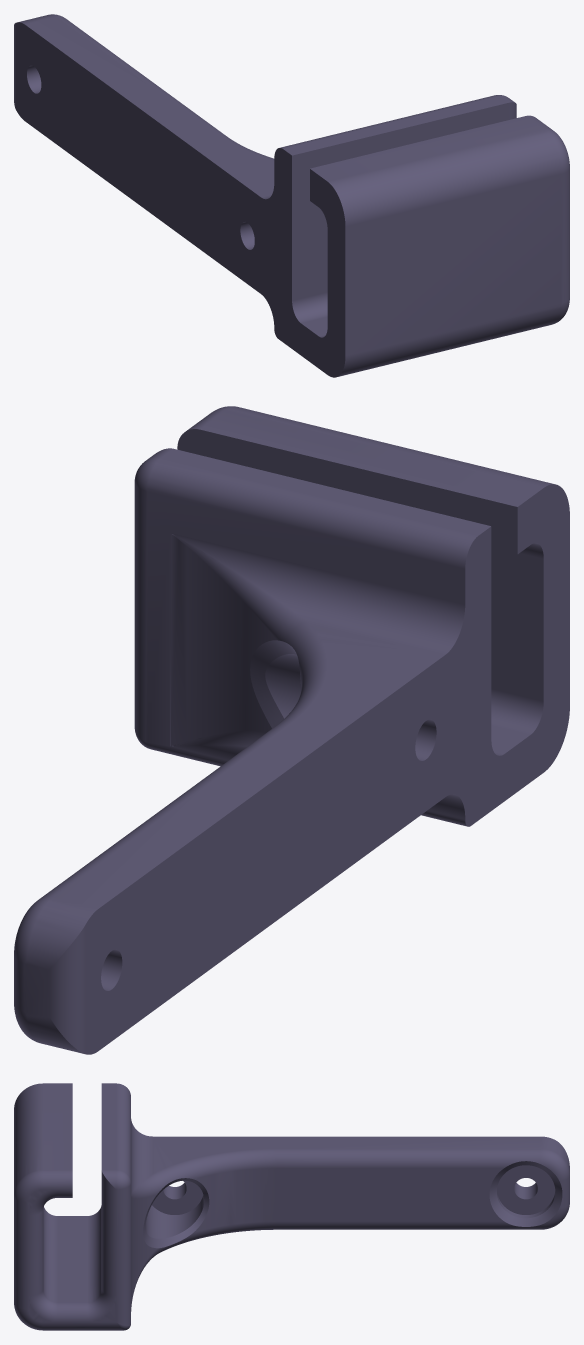
The model's file is Main_ExtraPart2.dae.
3 renders of one model, top to bottom at view 1: azimuth 30°, elevation 25°; view 2: azimuth 150°, elevation 25°; view 3: azimuth 270°, elevation 25°, orthographic. The views are drawn at different scales.
Visible parts, largest first — view 1: Main_ExtraPart2; view 2: Main_ExtraPart2; view 3: Main_ExtraPart2.
Part boxes in pixels (left/top/right/bottom): Main_ExtraPart2: left=14, top=14, right=569, bottom=377; Main_ExtraPart2: left=14, top=406, right=569, bottom=1054; Main_ExtraPart2: left=14, top=1083, right=569, bottom=1330.
Bounding box in the file's own units: 0.015 × 0.038 × 0.012.
